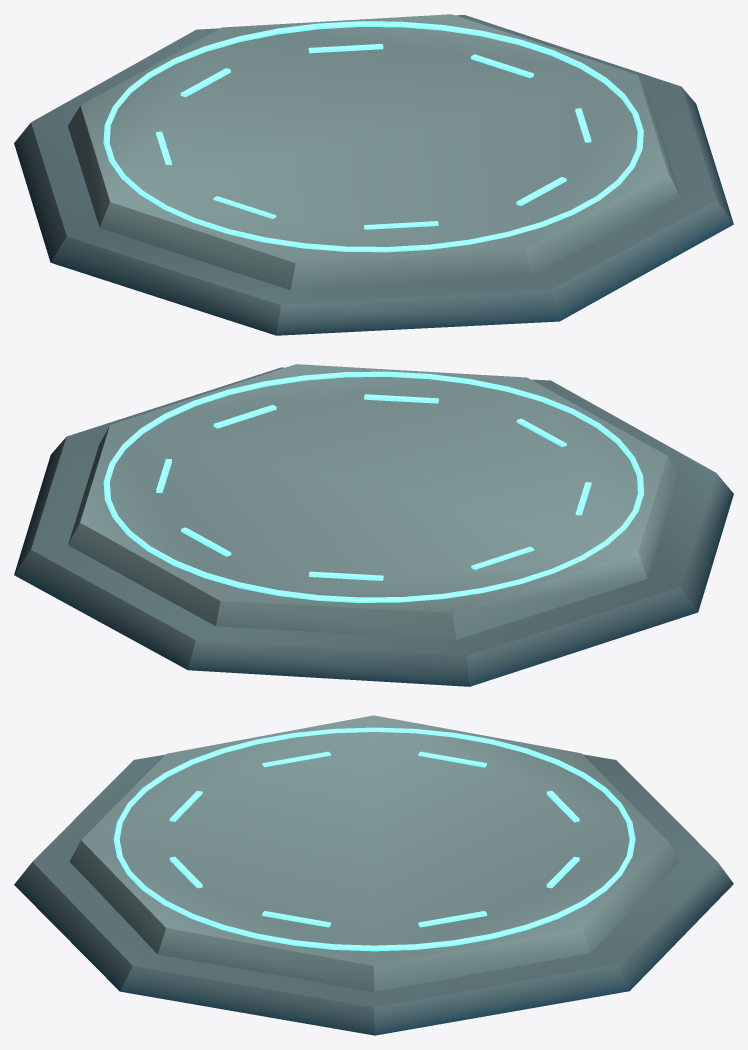
File: ruin_platform_octagon.glb
The picture shows the model from 3 angles, top to bottom: view 1: azimuth 30°, elevation 25°; view 2: azimuth 150°, elevation 25°; view 3: azimuth 270°, elevation 25°; orthographic projection. The views are drawn at different scales.
Parts seen in each view (by area): view 1: ruin_platform_octagon_stone, ruin_platform_octagon_glow; view 2: ruin_platform_octagon_stone, ruin_platform_octagon_glow; view 3: ruin_platform_octagon_stone, ruin_platform_octagon_glow.
Boxes of the visible parts, bbox=[...] form: ruin_platform_octagon_stone: bbox=[14, 14, 733, 335]; ruin_platform_octagon_glow: bbox=[103, 21, 643, 252]; ruin_platform_octagon_stone: bbox=[14, 364, 733, 686]; ruin_platform_octagon_glow: bbox=[103, 371, 643, 602]; ruin_platform_octagon_stone: bbox=[14, 715, 733, 1035]; ruin_platform_octagon_glow: bbox=[113, 727, 635, 951].
Size of the model in its own units: 12 by 0.8828 by 12.
